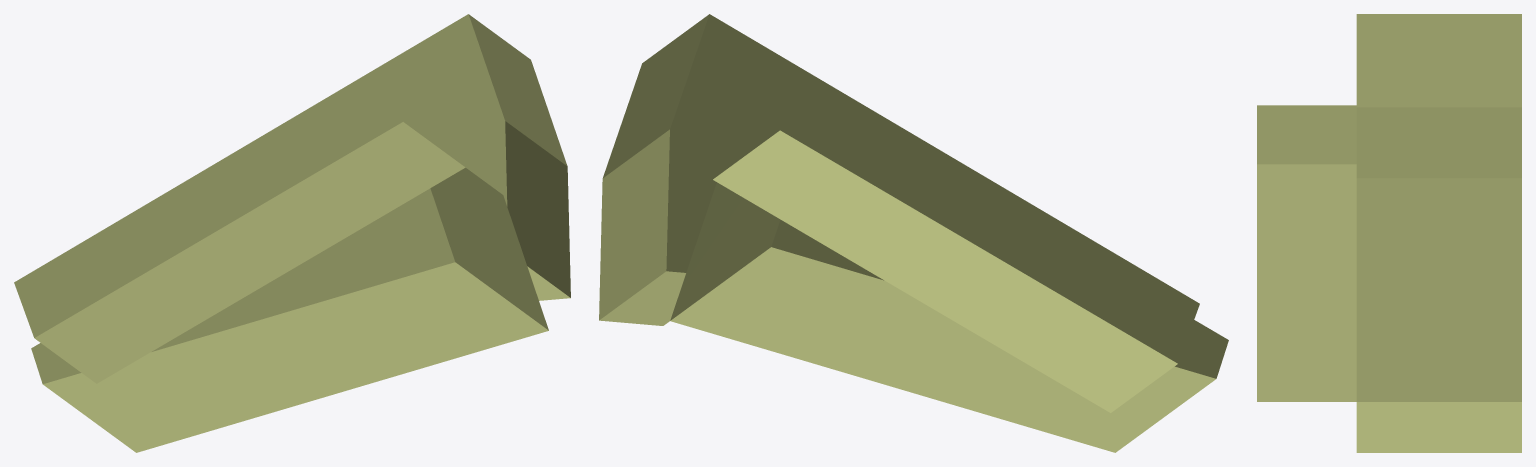
The picture shows the model from 3 angles, left to right: view 1: azimuth 30°, elevation 25°; view 2: azimuth 150°, elevation 25°; view 3: azimuth 270°, elevation 25°; orthographic projection. The views are drawn at different scales.
Visible parts, largest first — view 1: 0_2_0_1_1_2_1_0_1; view 2: 0_2_0_1_1_2_1_0_1; view 3: 0_2_0_1_1_2_1_0_1.
Part boxes in pixels (box(x1,y1,x2,y2)): 0_2_0_1_1_2_1_0_1: box(14, 14, 570, 452); 0_2_0_1_1_2_1_0_1: box(599, 14, 1228, 452); 0_2_0_1_1_2_1_0_1: box(1257, 14, 1521, 452).
Size of the model in its own units: 27.41 by 13.78 by 9.61.
